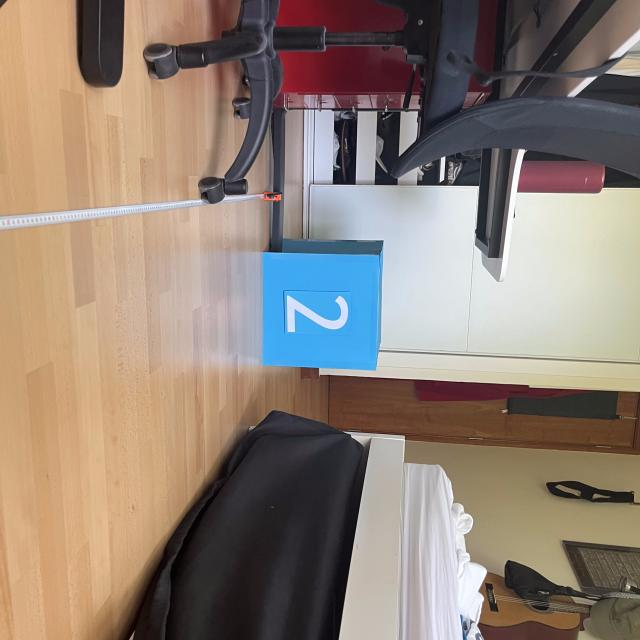box: (256, 236, 387, 373)
